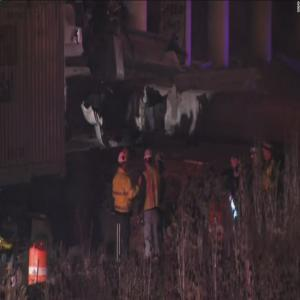white: (119, 151, 130, 171), (144, 148, 154, 169)
